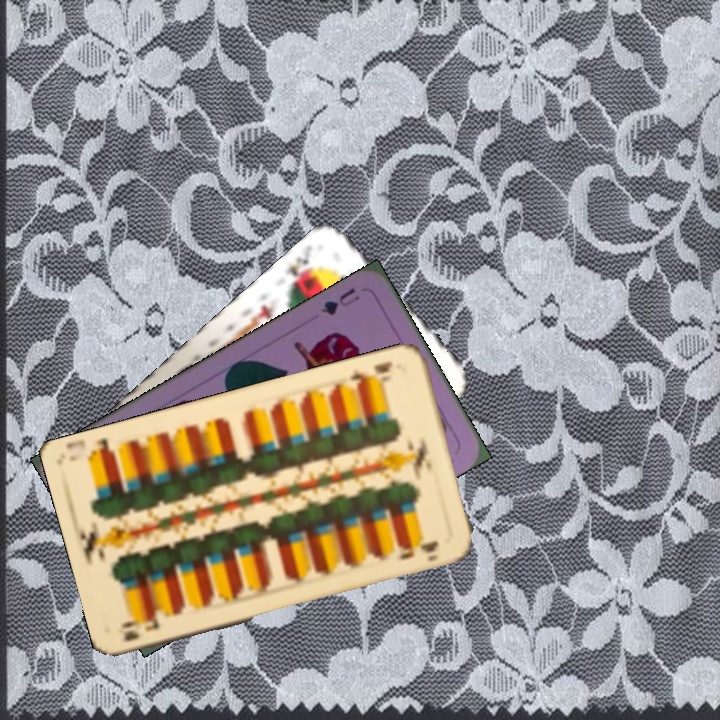E10: (345, 357, 395, 391), (116, 611, 161, 644)
GU: (316, 283, 362, 318)
SK: (280, 246, 316, 293)
